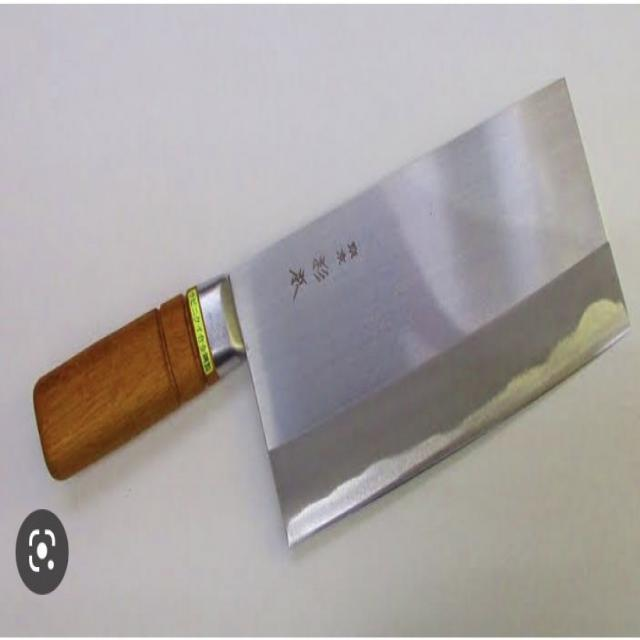Knife: (20, 63, 640, 616)
